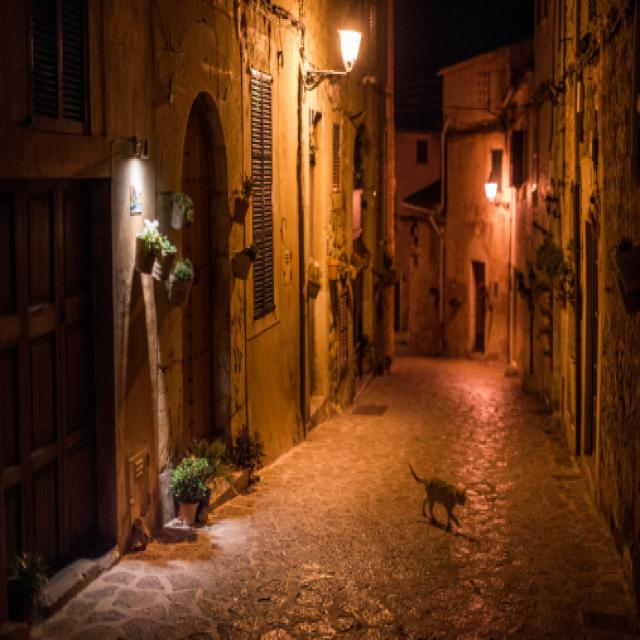Cat: (414, 452, 469, 561)
